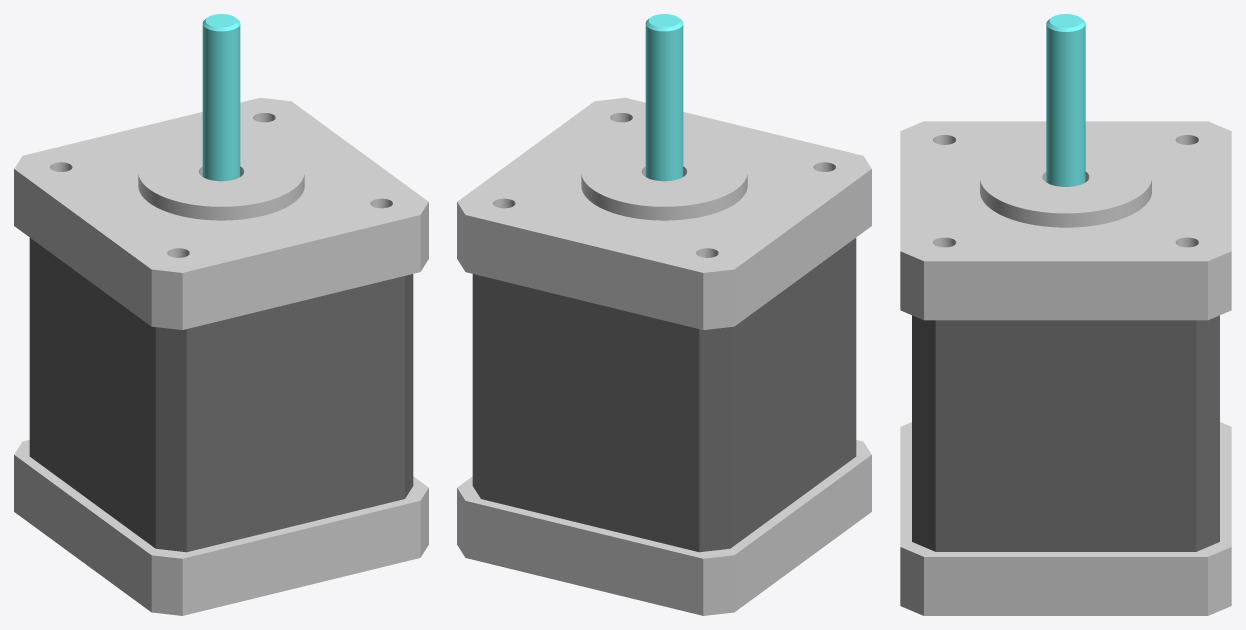
3 views of the same model, side by side, from view 1: azimuth 30°, elevation 25°; view 2: azimuth 150°, elevation 25°; view 3: azimuth 270°, elevation 25° (orthographic). The views are drawn at different scales.
Visible parts, largest first — view 1: out-stator, out-topcap, out-botcap, out-shaft; view 2: out-stator, out-topcap, out-botcap, out-shaft; view 3: out-stator, out-topcap, out-botcap, out-shaft.
Boxes of the visible parts, x1,y1,x2,y2 form: out-stator: (29,238,413,552); out-topcap: (14,97,428,329); out-botcap: (14,440,428,615); out-shaft: (202,14,240,181); out-stator: (472,238,856,552); out-topcap: (457,97,871,329); out-botcap: (457,440,871,615); out-shaft: (645,14,683,181); out-stator: (912,315,1219,551); out-topcap: (900,121,1231,320); out-botcap: (900,422,1231,615); out-shaft: (1046,14,1085,186).
Bounding box in the file's own units: 0.0423 × 0.074 × 0.0423.
